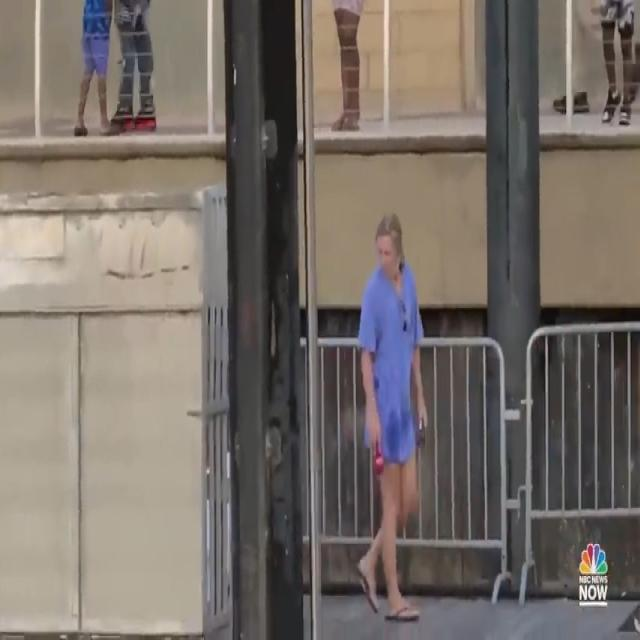non-fight: (351, 207, 430, 629)
